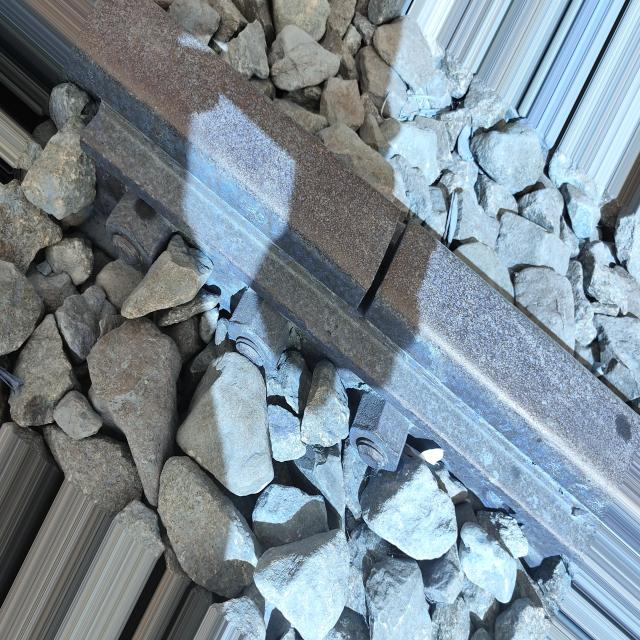crack: (345, 174, 426, 352)
